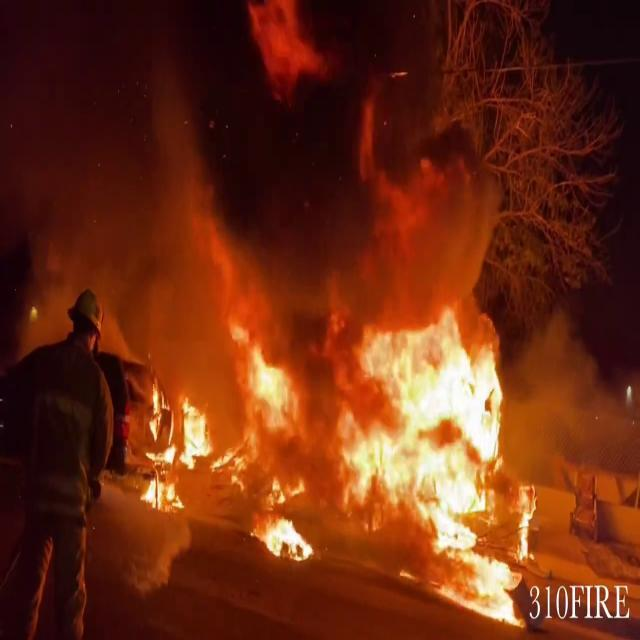Fire: (132, 262, 554, 626), (132, 384, 216, 506)
Smoke: (2, 0, 470, 302)
